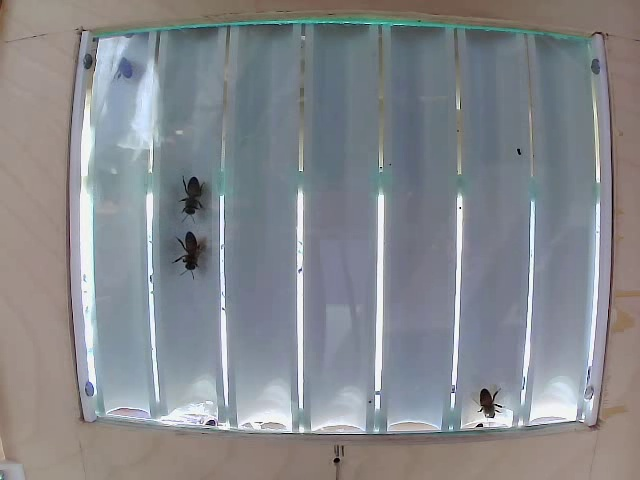bee: (110, 42, 142, 84), (175, 174, 207, 214), (179, 240, 210, 278), (468, 389, 504, 420)
